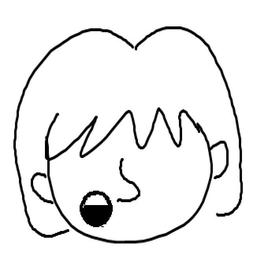ear: (208, 136, 237, 183), (29, 167, 58, 208)
nose: (111, 152, 145, 205)
open_mouth: (76, 185, 115, 230)
